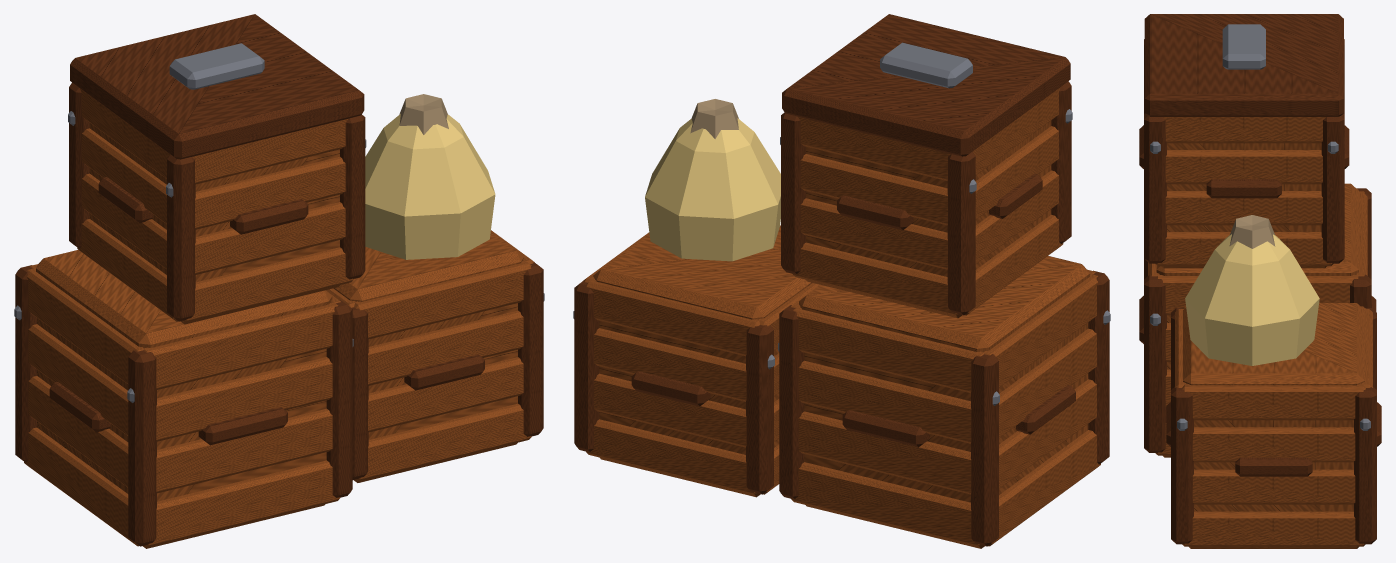
File: fantasy-mmo-city-and-townsfolk-crate-stack-b08adb12__32761.glb
3 renders of one model, left to right at view 1: azimuth 30°, elevation 25°; view 2: azimuth 150°, elevation 25°; view 3: azimuth 270°, elevation 25°, orthographic. The views are drawn at different scales.
Visible parts, largest first — view 1: crate-stack, lid/timber, lid/iron; view 2: crate-stack, lid/timber, lid/iron; view 3: crate-stack, lid/timber, lid/iron.
Part boxes in pixels (x1=…): crate-stack: x1=14, y1=82, x2=544, y2=548; lid/timber: x1=70, y1=14, x2=364, y2=159; lid/iron: x1=169, y1=43, x2=264, y2=89; crate-stack: x1=573, y1=81, x2=1110, y2=548; lid/timber: x1=782, y1=14, x2=1070, y2=156; lid/iron: x1=880, y1=42, x2=972, y2=88; crate-stack: x1=1139, y1=39, x2=1381, y2=548; lid/timber: x1=1144, y1=14, x2=1343, y2=116; lid/iron: x1=1222, y1=24, x2=1265, y2=69.
Size of the model in its own units: 1.68 by 1.6 by 0.9.
5 materials, 2 textured.
